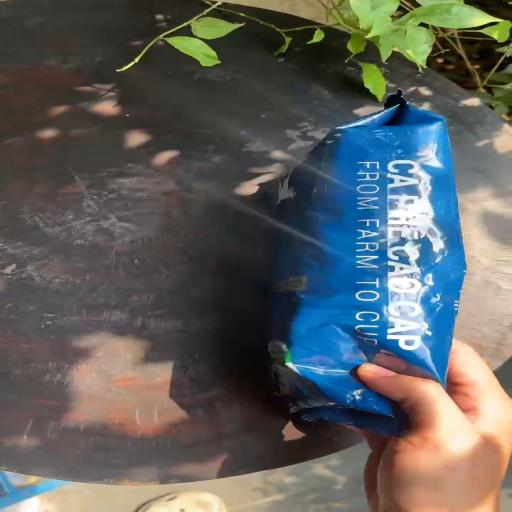cafe_hat: (264, 91, 466, 436)
